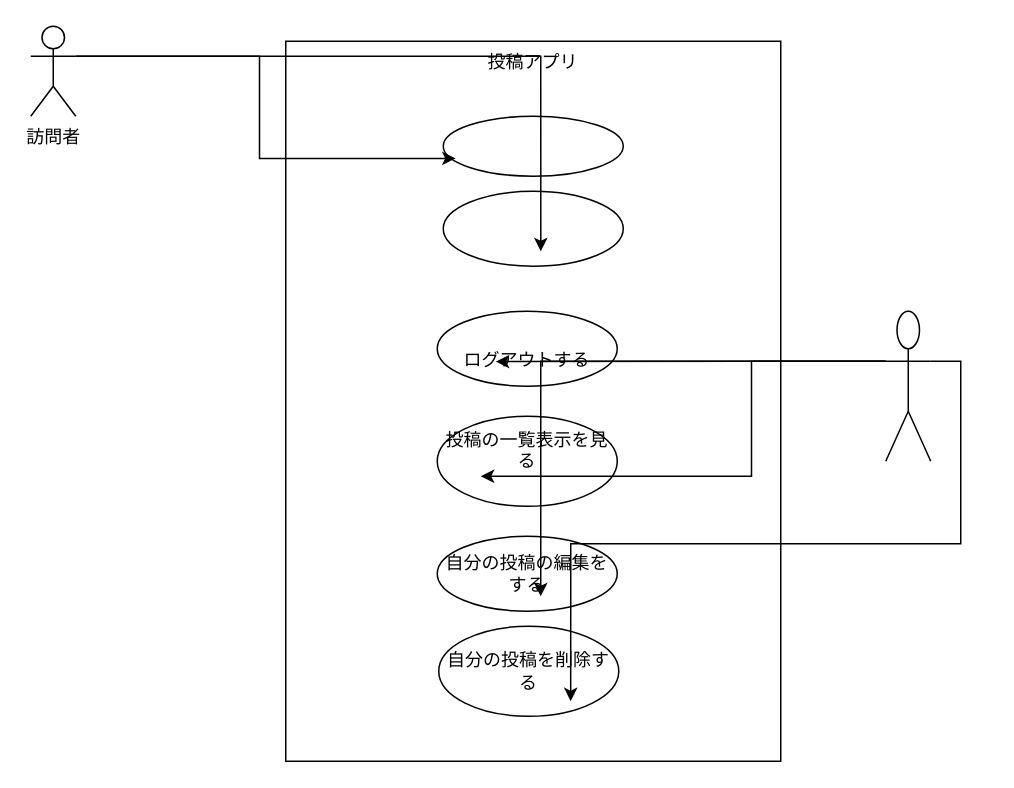
This 1014x788 diagram has some shape labels left out. Each missing label, with the centre of its shape:
"ユーザー登録する" goes at point 532,145.
"ログインする" goes at point 532,228.
"ログイン済み訪問者" goes at point 907,385.
